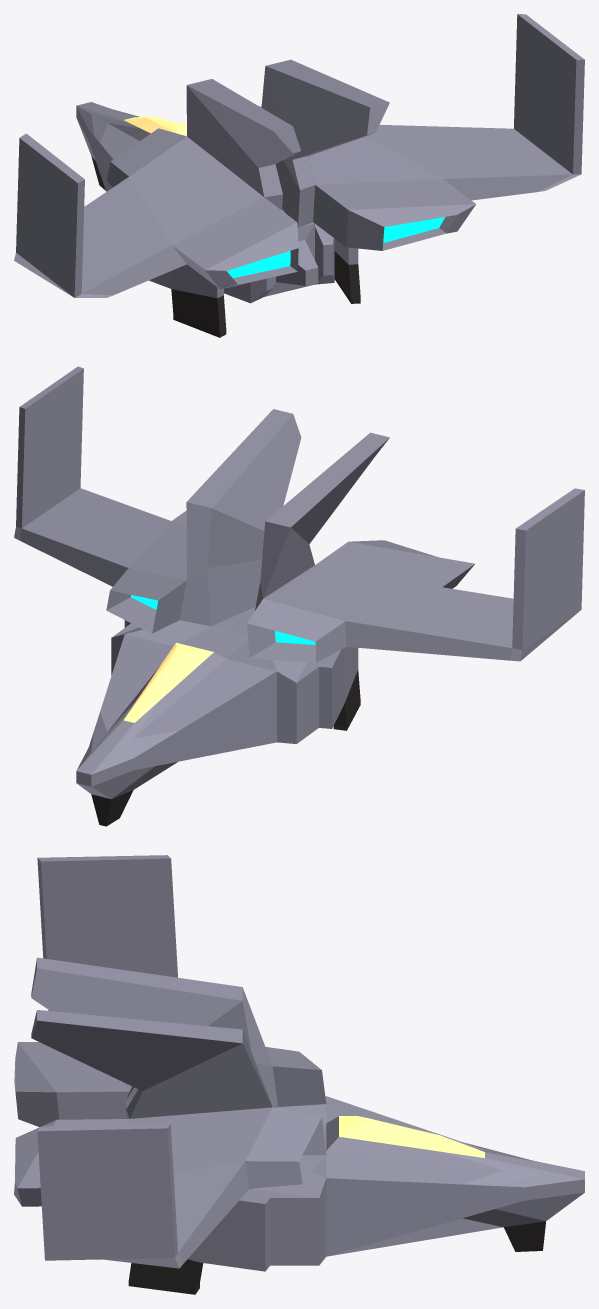
The model's file is carplane.fbx.
The picture shows the model from 3 angles, top to bottom: view 1: azimuth 30°, elevation 25°; view 2: azimuth 150°, elevation 25°; view 3: azimuth 270°, elevation 25°; orthographic projection. The views are drawn at different scales.
Parts seen in each view (by area): view 1: Cube; view 2: Cube; view 3: Cube.
Boxes of the visible parts, left/top/right/bottom form: Cube: left=14, top=14, right=584, bottom=337; Cube: left=14, top=366, right=584, bottom=826; Cube: left=14, top=855, right=584, bottom=1294.
Size of the model in its own units: 17.37 by 7.71 by 15.32.
